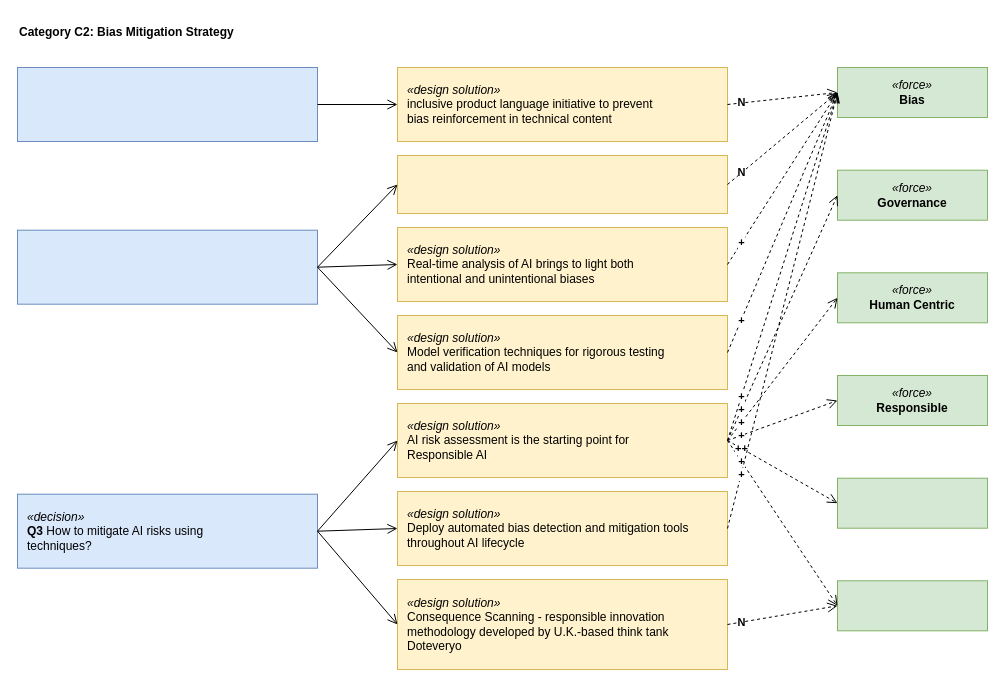
Image size: 1005x687. Some labels were removed from this diagram. Here are the shapes that lost their labels. From the top down, the centre of each, then its label:
At (167,104): "«decision» Q1 How to prevent bias in AI systems?".
At (562,184): "«design solution» Ensure clean unbiased training data".
At (167,266): "«decision» Q2 How to identify and mitigate AI bias?".
At (912,502): "«force» Safety".
At (912,605): "«force» Trust".
